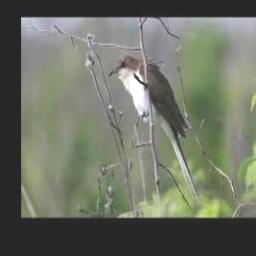Cuckoo: (108, 53, 199, 203)
